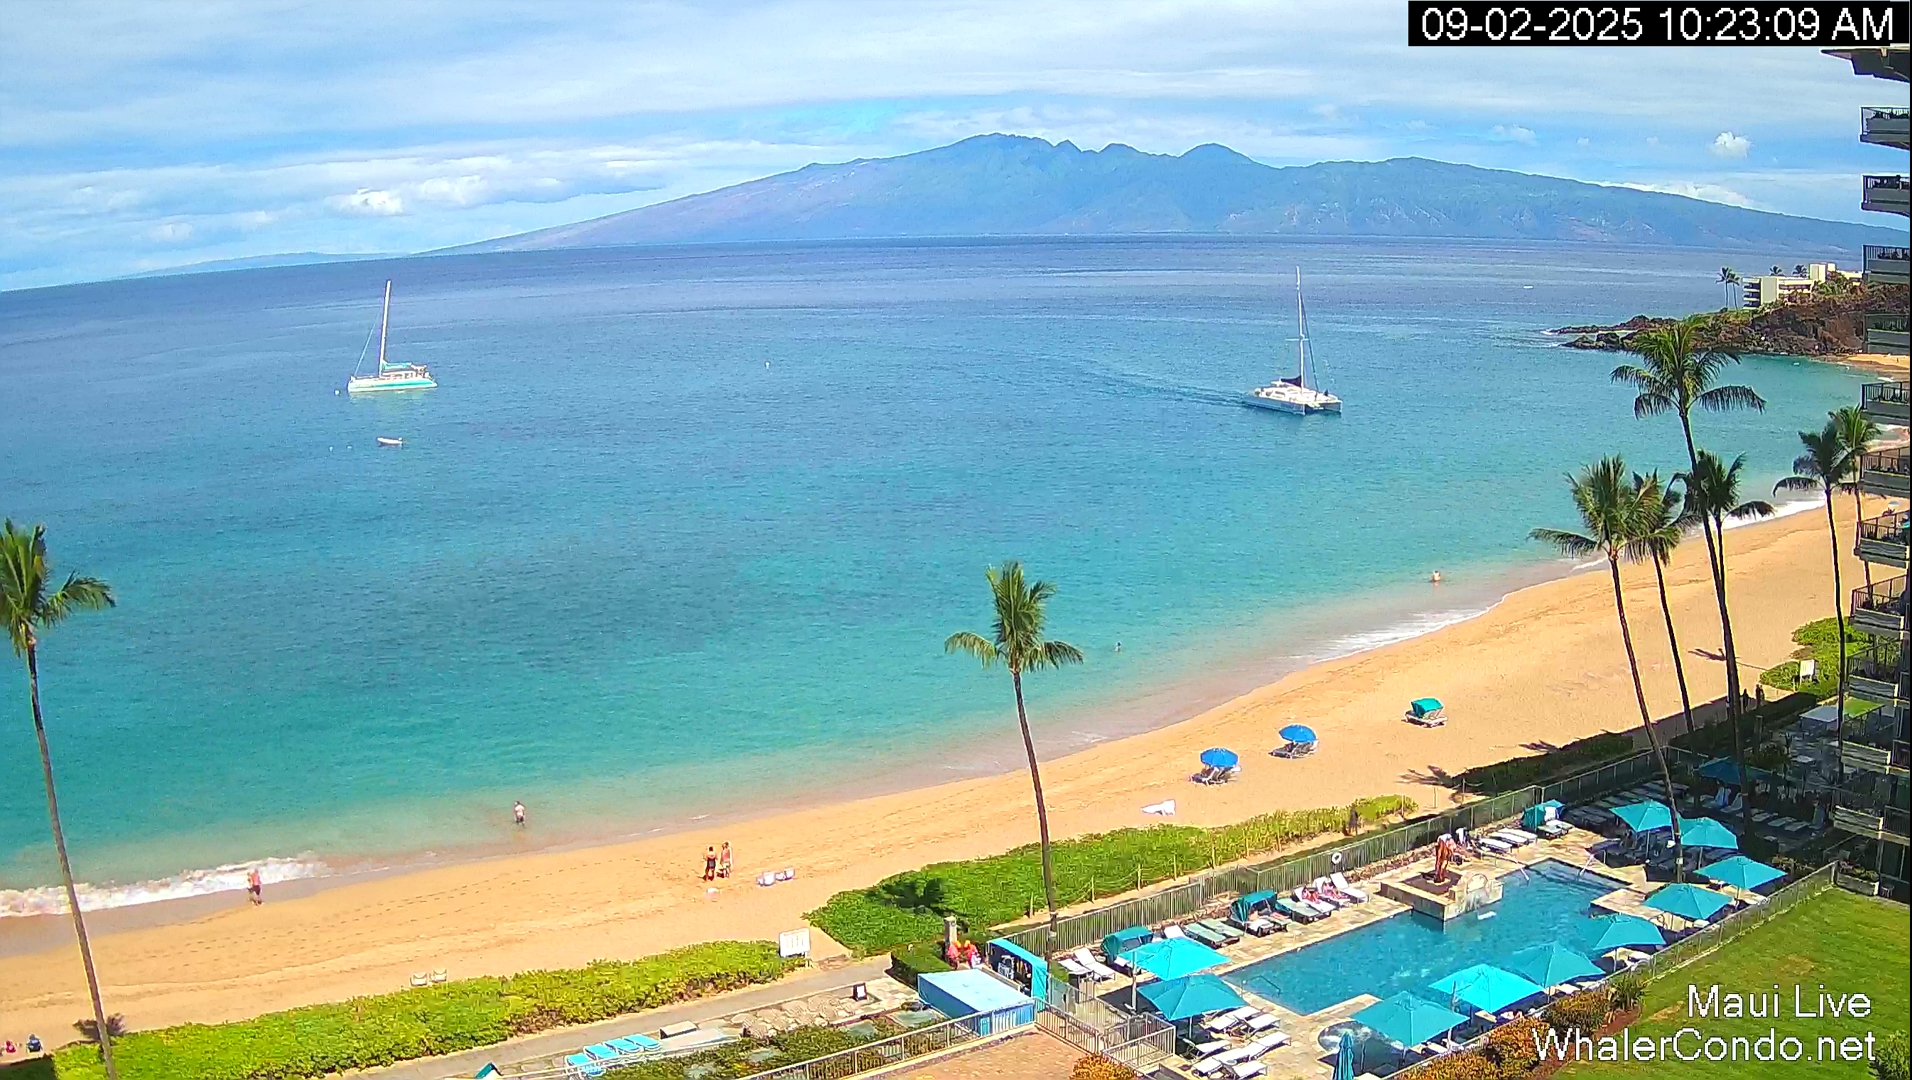boat: (1241, 265, 1343, 416), (346, 279, 437, 394), (564, 1033, 640, 1079)
person: (247, 866, 263, 907), (719, 841, 733, 879), (703, 846, 717, 882), (947, 941, 961, 970), (26, 1033, 43, 1054), (514, 800, 525, 827), (1740, 688, 1750, 714), (1755, 684, 1764, 709), (5, 1039, 17, 1054), (1430, 570, 1441, 582), (1114, 641, 1122, 653)
